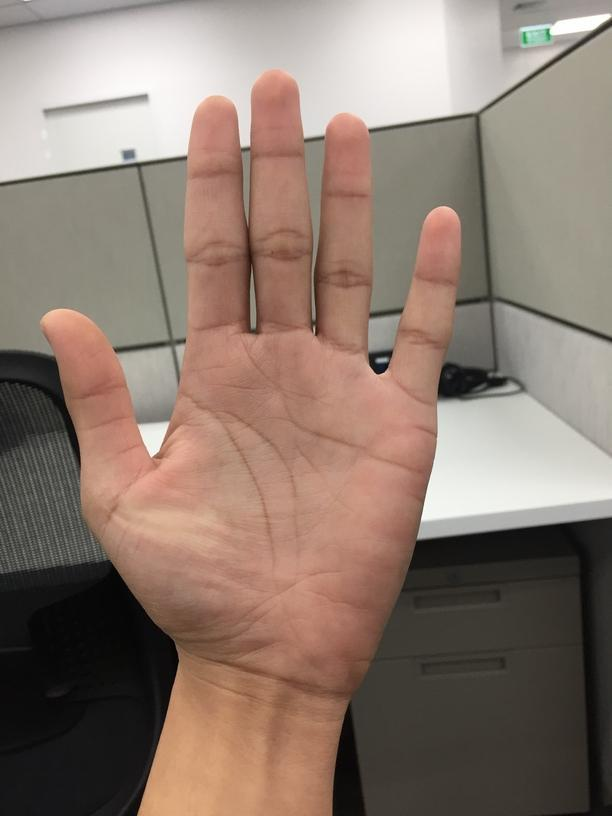hand: (39, 69, 463, 677)
